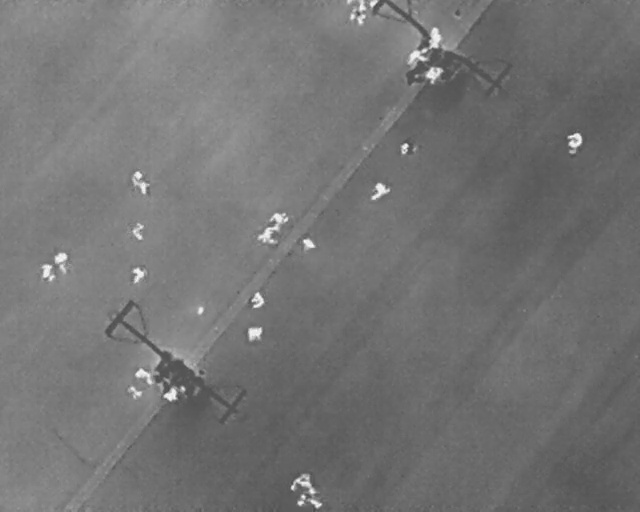Person: (289, 471, 317, 494), (257, 226, 279, 246), (295, 494, 326, 508), (348, 1, 365, 26), (132, 169, 149, 194), (370, 181, 391, 201), (125, 381, 145, 401), (133, 365, 154, 383), (568, 132, 583, 155), (409, 47, 428, 65), (53, 253, 69, 273), (429, 26, 442, 49), (427, 65, 442, 84), (400, 140, 416, 157), (271, 210, 288, 226), (131, 266, 145, 284), (41, 264, 55, 282), (162, 387, 178, 401), (132, 222, 145, 239), (251, 291, 264, 308), (248, 328, 263, 341), (301, 239, 315, 251)
